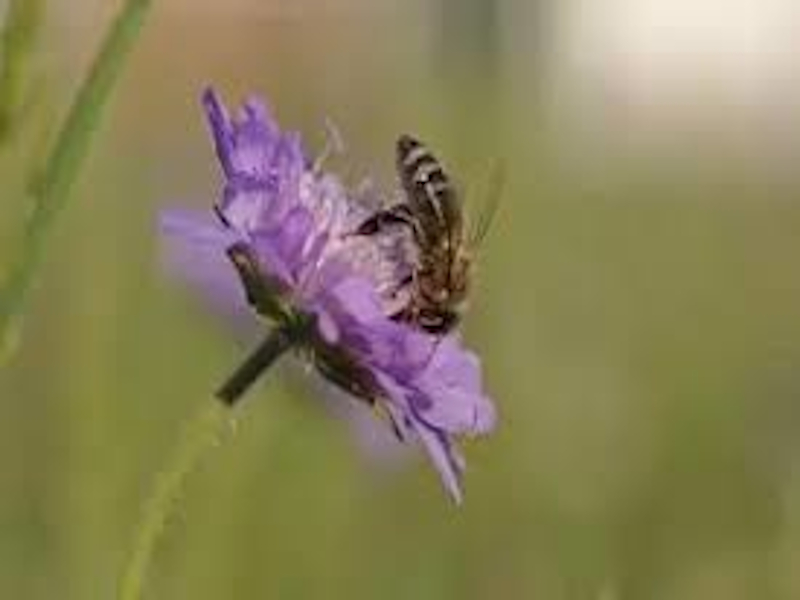abeja: (343, 122, 527, 334)
